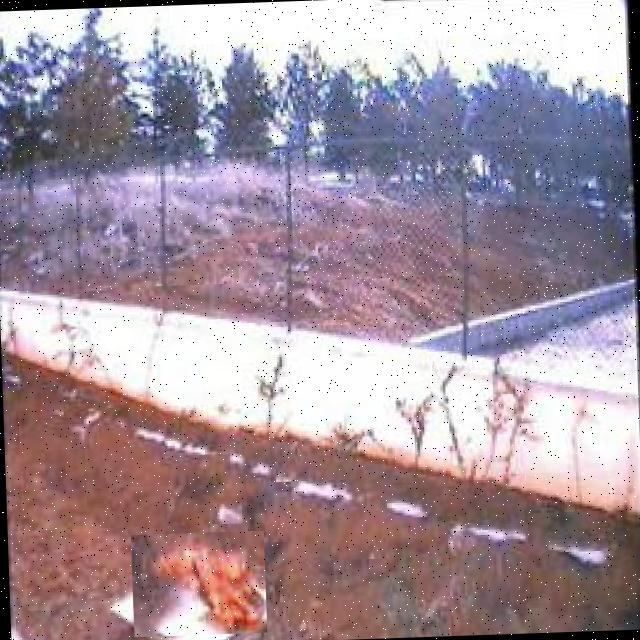fire: (130, 530, 266, 637)
